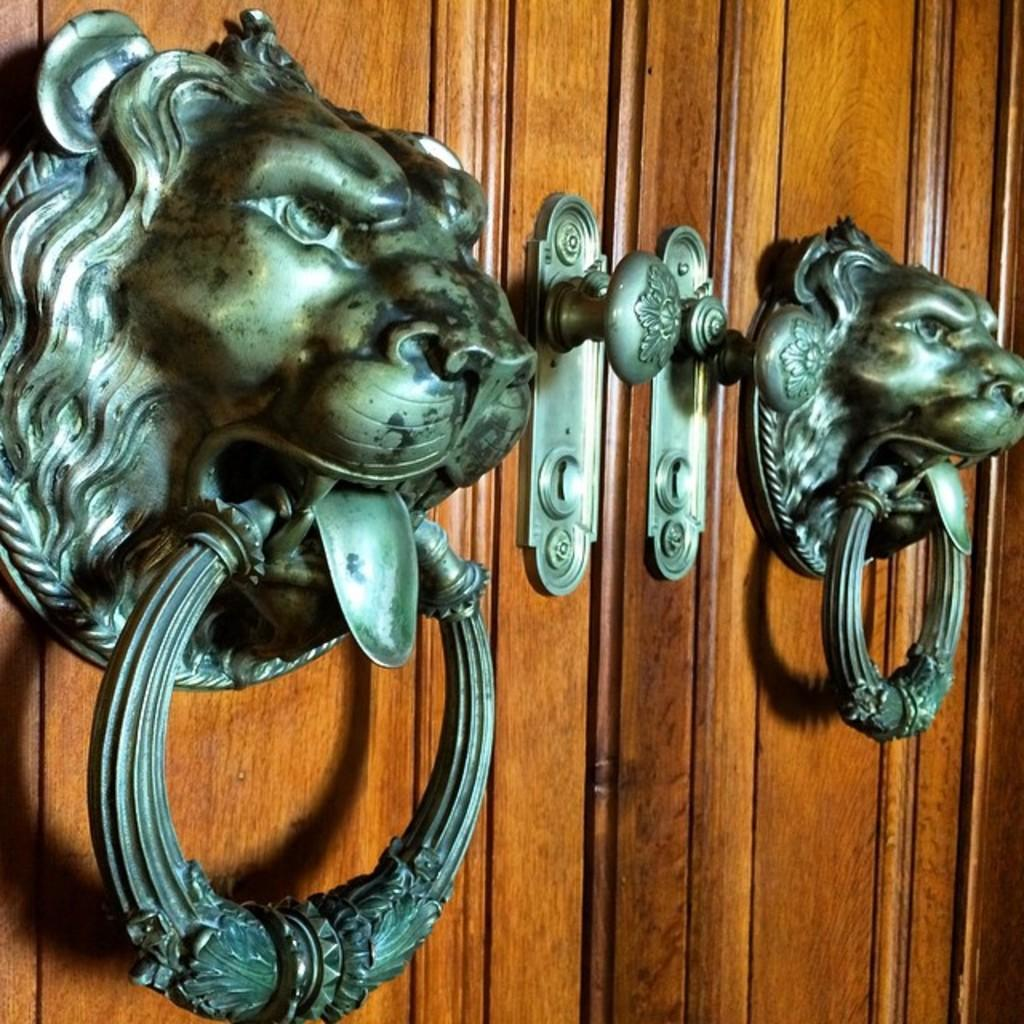door: (6, 2, 594, 1022), (620, 0, 1022, 1024)
handle: (110, 526, 498, 1024), (834, 448, 964, 761), (571, 234, 676, 400), (683, 296, 745, 391)
